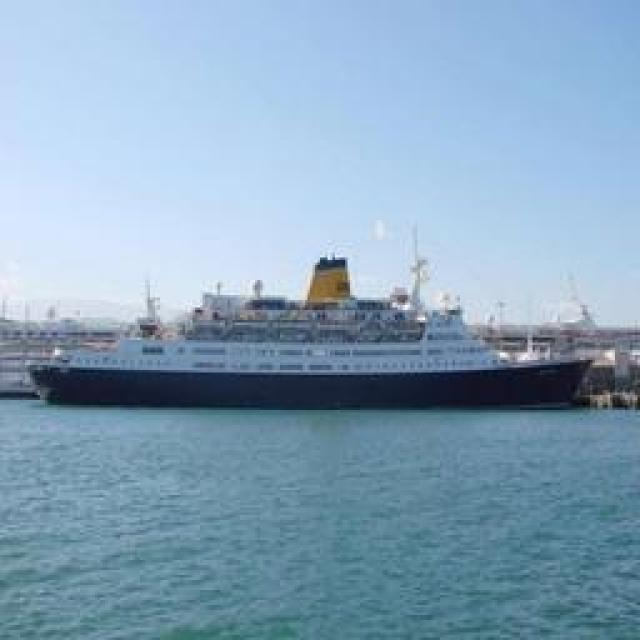CIV_Ship: (10, 244, 600, 414)
